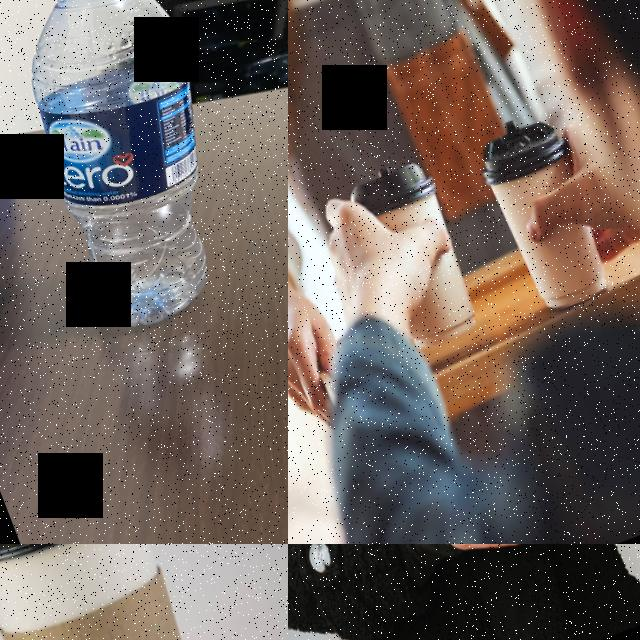bottle: (0, 0, 286, 345)
cup: (467, 104, 619, 318), (338, 148, 492, 359), (0, 544, 273, 640)
